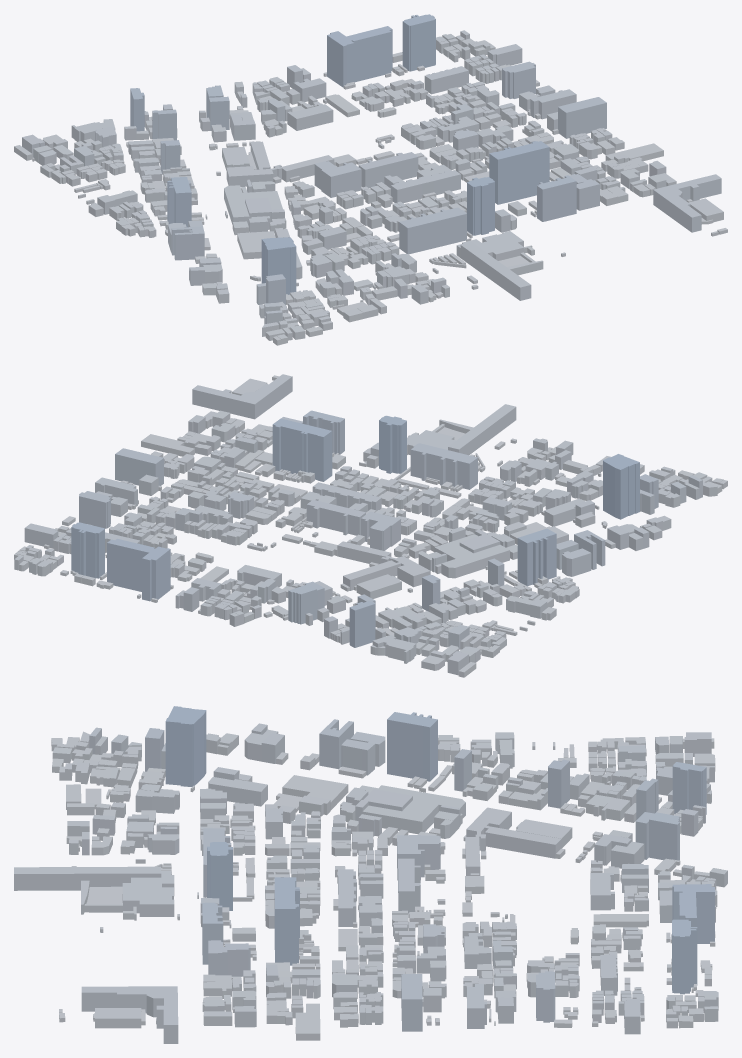
3 renders of one model, top to bottom at view 1: azimuth 30°, elevation 25°; view 2: azimuth 150°, elevation 25°; view 3: azimuth 270°, elevation 25°, orthographic. The views are drawn at different scales.
Bounding box in the file's own units: 533 × 51.61 × 532.
